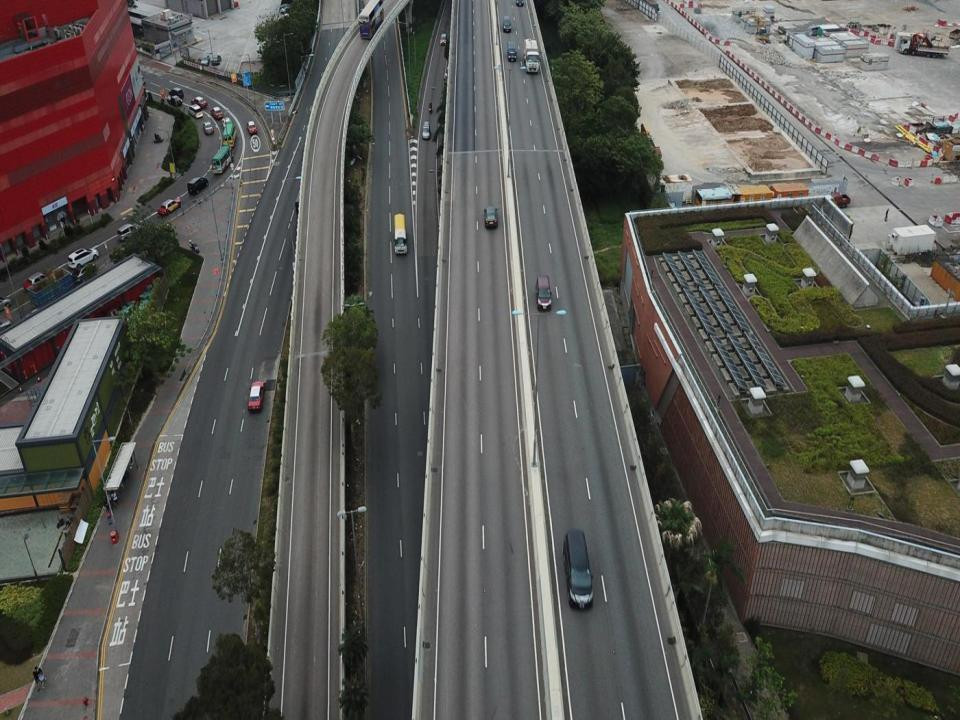bus: (391, 209, 408, 254), (211, 144, 234, 174), (222, 121, 238, 147)
car: (561, 526, 596, 610), (533, 273, 554, 313), (68, 246, 100, 270), (21, 270, 54, 292), (246, 379, 266, 411), (156, 197, 182, 218), (117, 224, 143, 242), (483, 202, 498, 230), (187, 175, 209, 194), (420, 118, 432, 141), (187, 102, 203, 119), (210, 103, 224, 120), (190, 96, 208, 109), (166, 95, 182, 108), (168, 86, 183, 99), (247, 118, 257, 134), (202, 120, 214, 133), (211, 53, 222, 66), (200, 54, 211, 66), (222, 116, 231, 127)
truck: (524, 36, 541, 73)
van: (506, 39, 516, 62), (502, 13, 512, 33)
